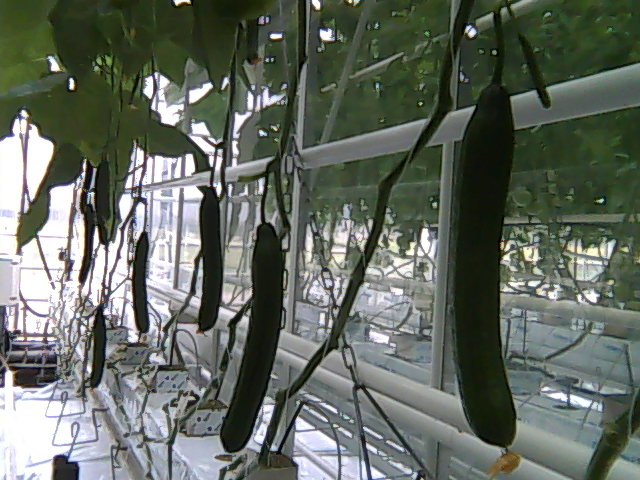concombre: (445, 78, 527, 480), (217, 218, 289, 465), (192, 182, 226, 334)
